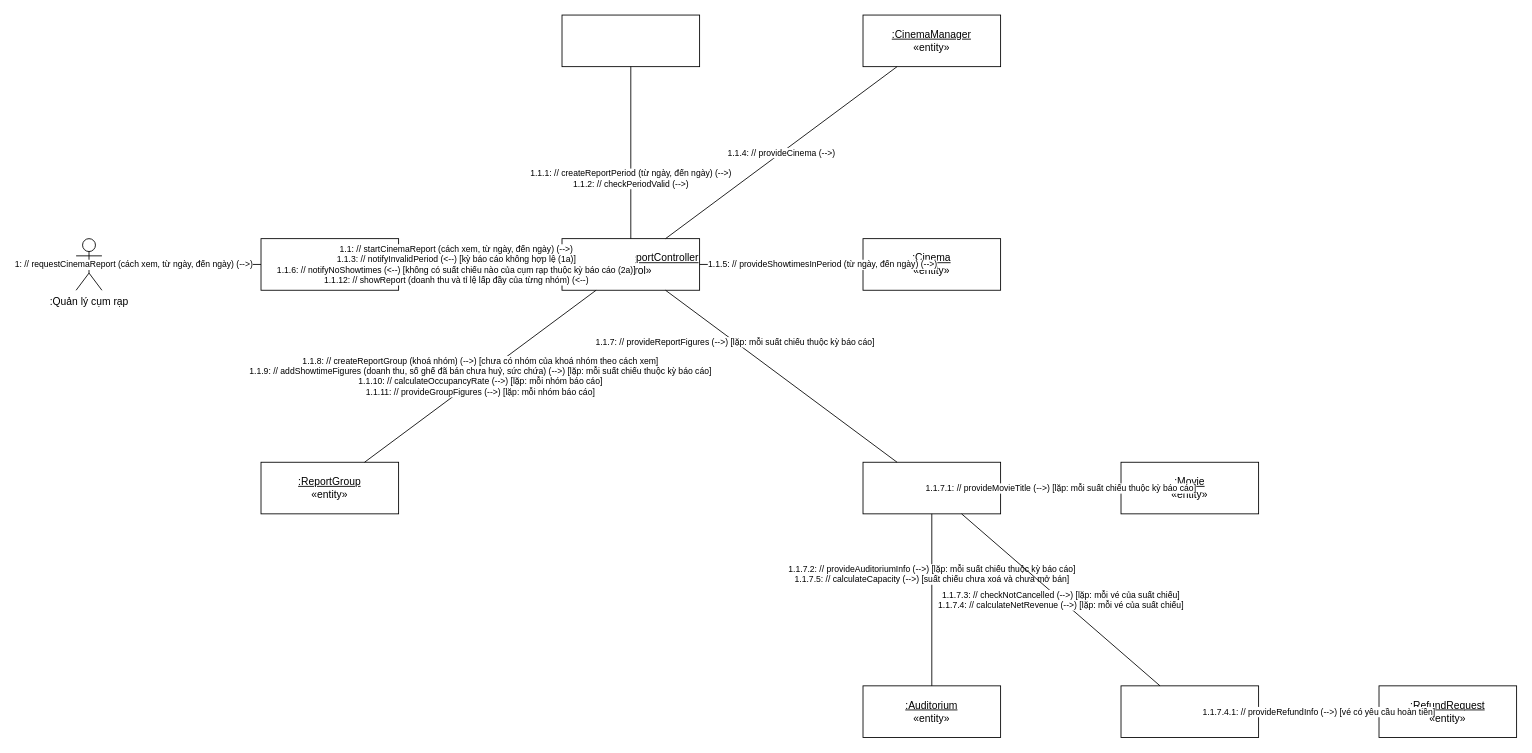
This 1532x753 diagram has some shape labels left out. The centre of each missing label's shape, as x and y in pixels:
":ReportPeriod «entity»" belongs at (x=630, y=40).
":Showtime «entity»" belongs at (x=931, y=487).
":Ticket «entity»" belongs at (x=1189, y=711).
":ViewCinemaReportForm «boundary»" belongs at (x=329, y=264).
